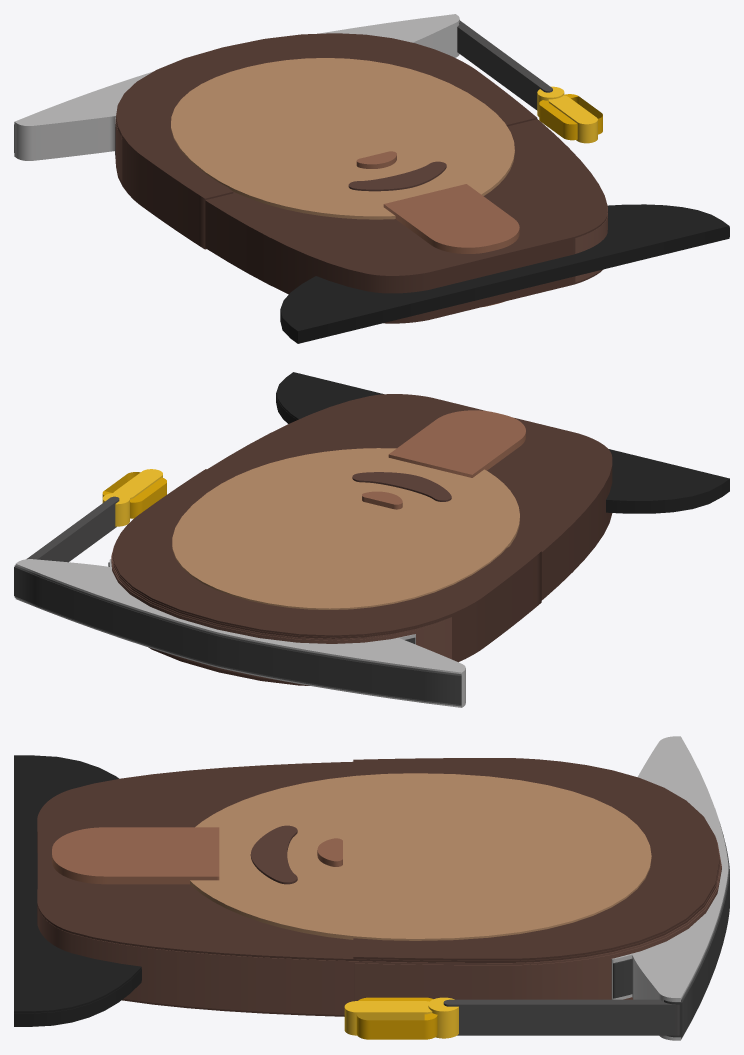
File: emoji_u1f469_1f3fd_200d_1f393.glb
The picture shows the model from 3 angles, top to bottom: view 1: azimuth 30°, elevation 25°; view 2: azimuth 150°, elevation 25°; view 3: azimuth 270°, elevation 25°; orthographic projection. The views are drawn at different scales.
Visible parts, largest first — view 1: emoji_u1f469_1f3fd_200d_1f393; view 2: emoji_u1f469_1f3fd_200d_1f393; view 3: emoji_u1f469_1f3fd_200d_1f393.
Boxes of the visible parts, x1,y1,x2,y2 form: emoji_u1f469_1f3fd_200d_1f393: (14, 14, 729, 343); emoji_u1f469_1f3fd_200d_1f393: (14, 372, 729, 707); emoji_u1f469_1f3fd_200d_1f393: (14, 736, 729, 1040).
Size of the model in its own units: 0.0302 by 0.004 by 0.0336.
